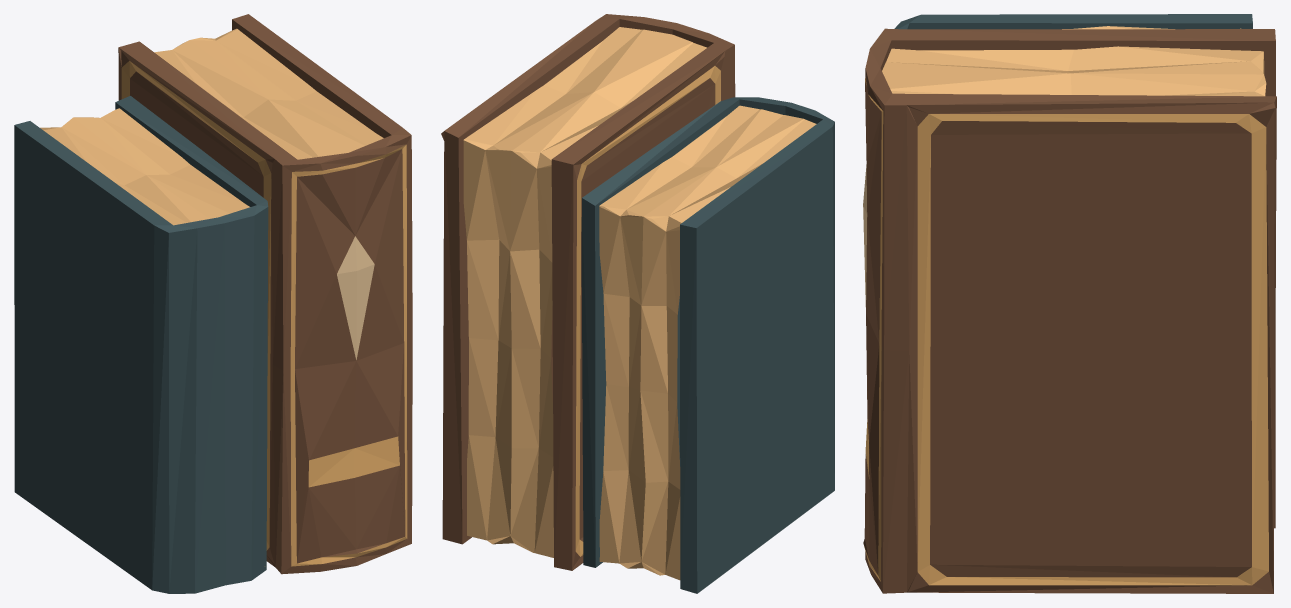
File: Books_003.fbx
3 views of the same model, side by side, from view 1: azimuth 30°, elevation 25°; view 2: azimuth 150°, elevation 25°; view 3: azimuth 270°, elevation 25° (orthographic). The views are drawn at different scales.
Parts seen in each view (by area): view 1: Books_003; view 2: Books_003; view 3: Books_003.
Boxes of the visible parts, left/top/right/bottom form: Books_003: left=14, top=14, right=412, bottom=593; Books_003: left=441, top=14, right=834, bottom=593; Books_003: left=863, top=14, right=1276, bottom=593.
Bounding box in the file's own units: 0.1982 × 0.3158 × 0.2403.
